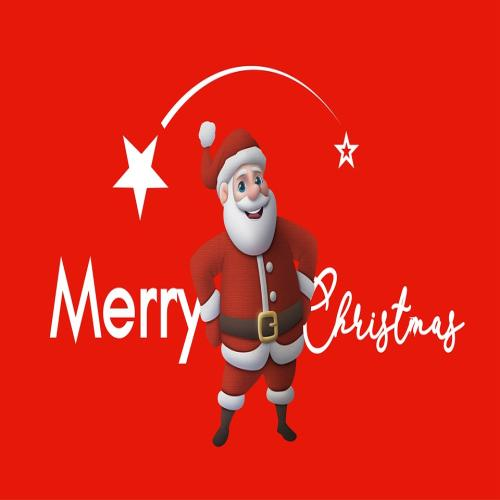Santa: (188, 120, 320, 449)
